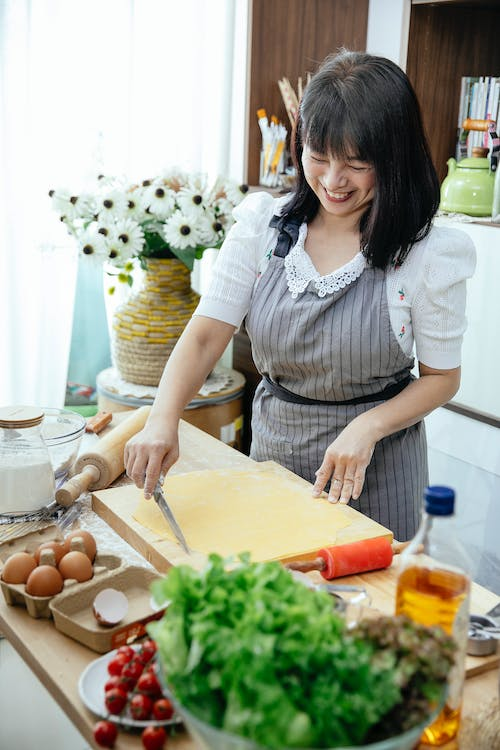knife: (152, 482, 192, 558)
